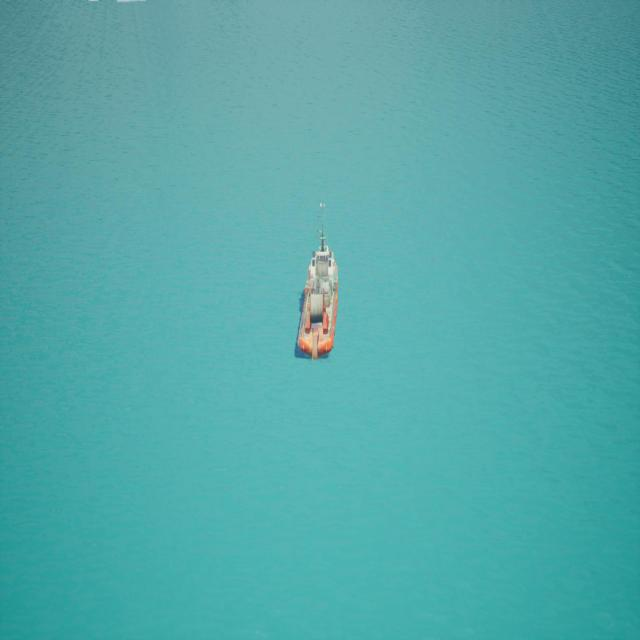tug boat: (296, 207, 340, 361)
